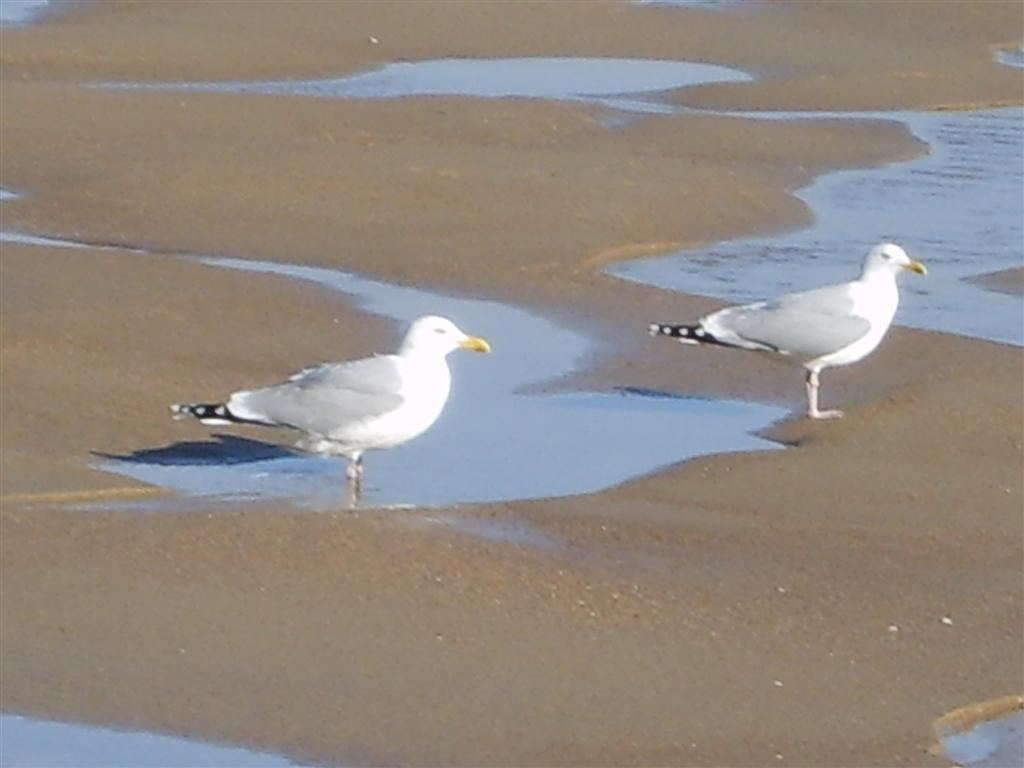Bird: (166, 312, 490, 499), (648, 242, 926, 419)
